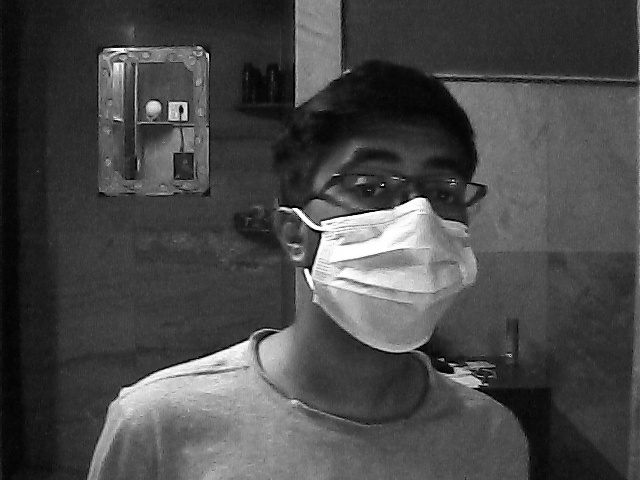mask: (302, 139, 482, 364)
